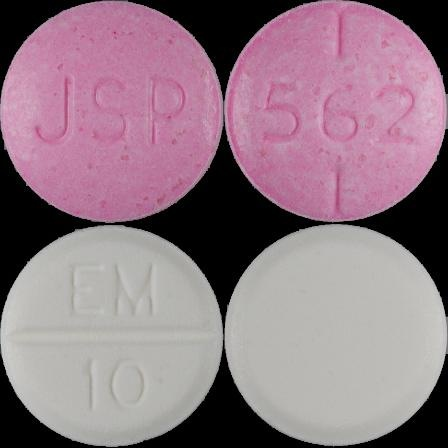53808-0846: (0, 0, 224, 224)
